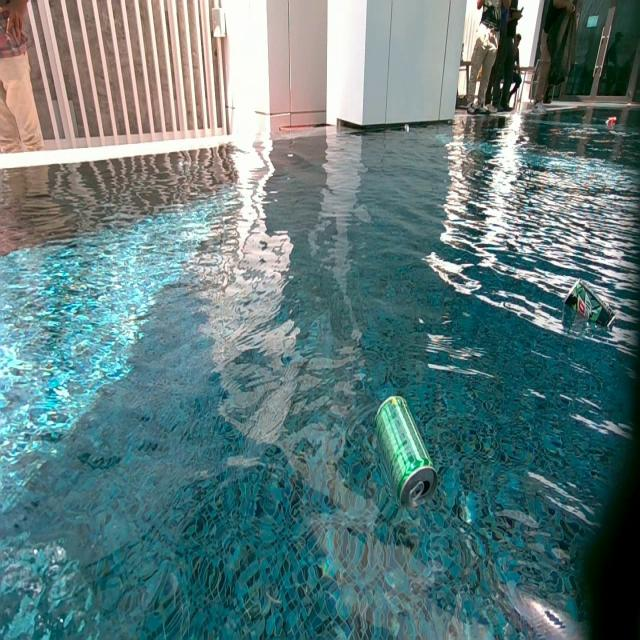Cans: (374, 391, 437, 508), (562, 277, 616, 334), (606, 116, 616, 126), (404, 124, 414, 134), (608, 119, 618, 128)
